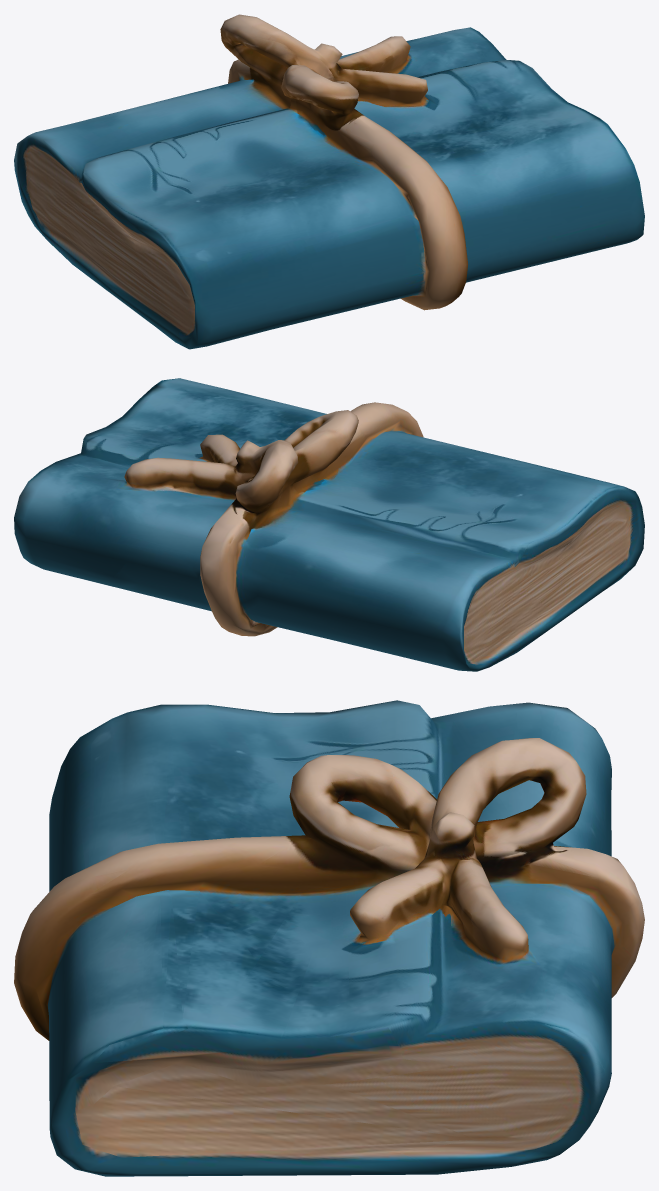
Rendered from Book_Iron.fbx.
3 renders of one model, top to bottom at view 1: azimuth 30°, elevation 25°; view 2: azimuth 150°, elevation 25°; view 3: azimuth 270°, elevation 25°, orthographic. The views are drawn at different scales.
Visible parts, largest first — view 1: tripo_node_8a2b5a23; view 2: tripo_node_8a2b5a23; view 3: tripo_node_8a2b5a23.
Boxes of the visible parts, x1,y1,x2,y2 form: tripo_node_8a2b5a23: (14, 14, 644, 349); tripo_node_8a2b5a23: (14, 378, 644, 671); tripo_node_8a2b5a23: (14, 700, 644, 1176).
Size of the model in its own units: 1 by 0.424 by 0.8198.
Materials: 1 (1 with a texture image).
